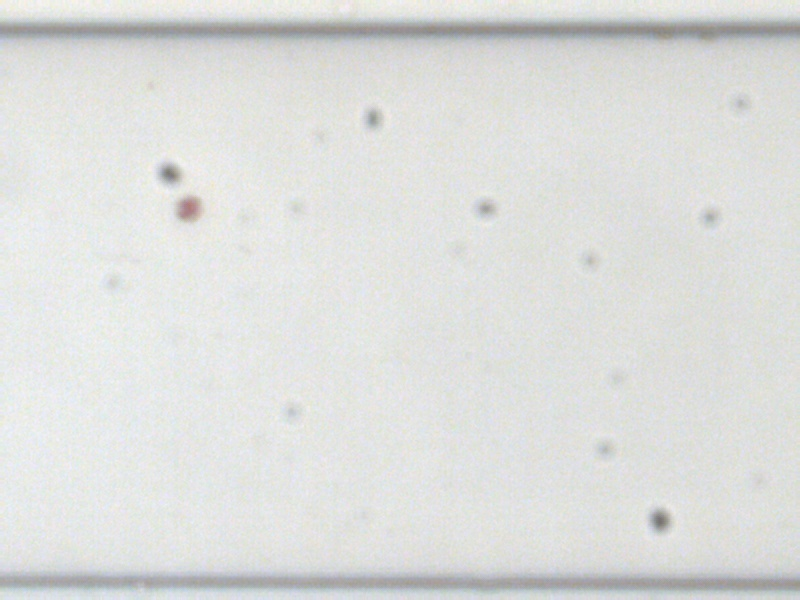Porphyridium: (172, 193, 204, 222)
